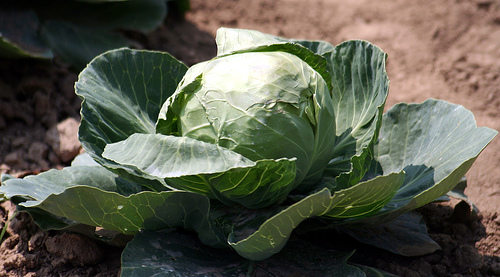cabbage: (1, 28, 498, 275)
